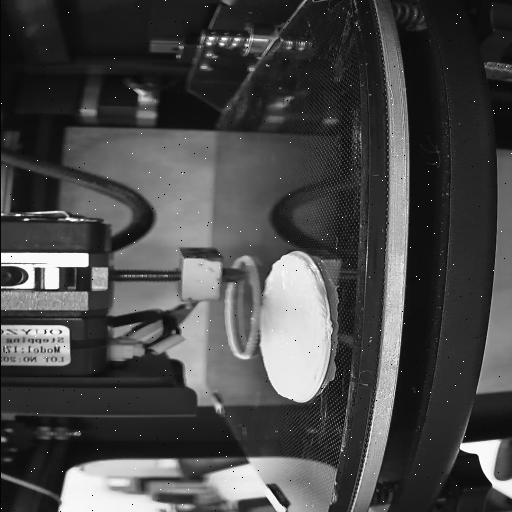over_extrusion: (270, 252, 310, 270)
